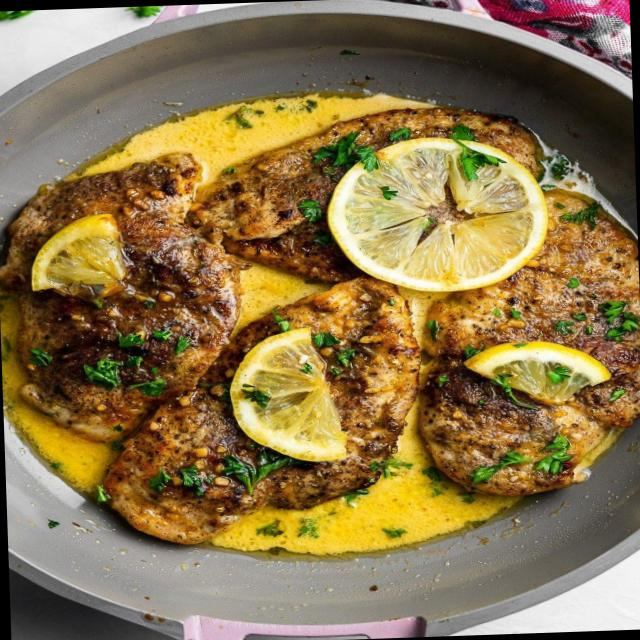chicken: (11, 83, 623, 561)
